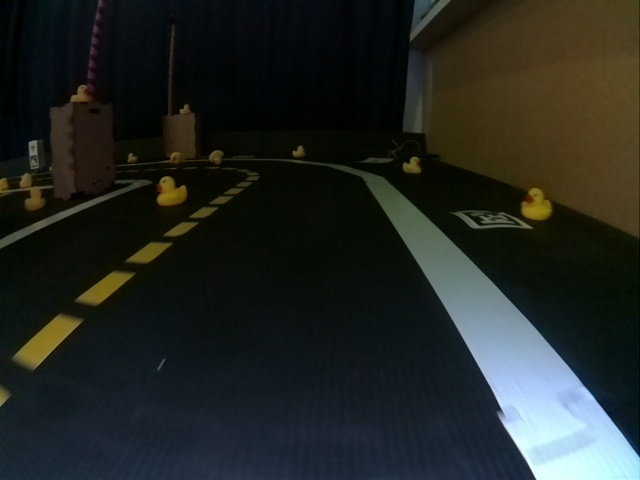Duckie: (521, 188, 551, 219), (157, 177, 187, 203), (25, 189, 45, 210), (71, 85, 88, 101), (403, 157, 420, 172), (209, 150, 223, 164), (293, 145, 305, 157), (20, 174, 31, 187), (171, 152, 180, 162), (180, 104, 190, 113)
QR code: (454, 210, 533, 229)
